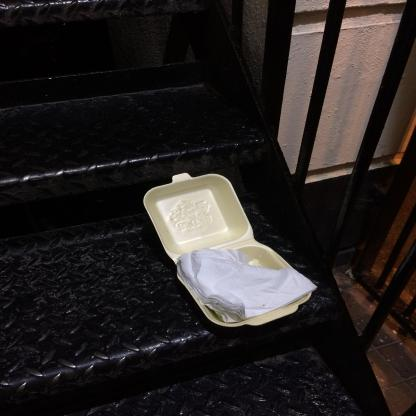kagit: (175, 248, 317, 322)
kopuk: (144, 174, 310, 326)
